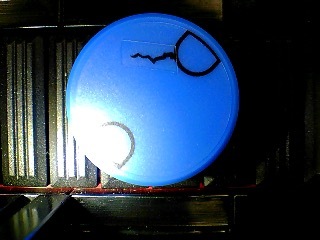CRACK: (65, 12, 240, 187)
